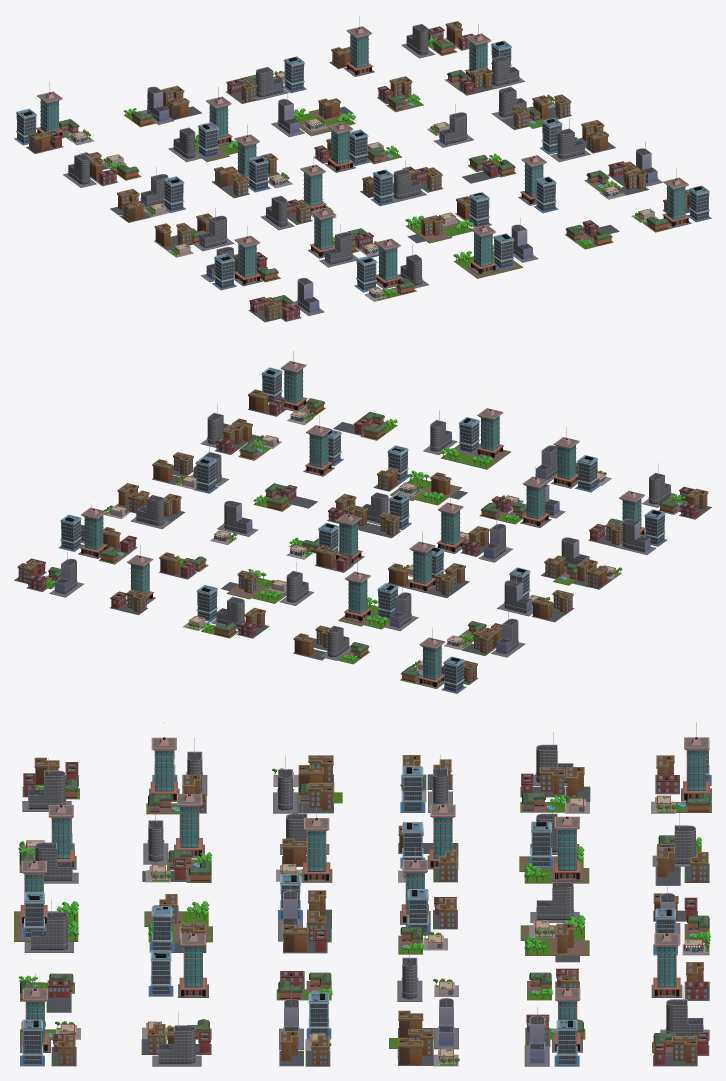
The model's file is buildings.glb.
The picture shows the model from 3 angles, top to bottom: view 1: azimuth 30°, elevation 25°; view 2: azimuth 150°, elevation 25°; view 3: azimuth 270°, elevation 25°; orthographic projection. The views are drawn at different scales.
Visible parts, largest first — view 1: building; view 2: building; view 3: building.
Part boxes in pixels (x1,y1,x2,y2): building: (14,17,711,322); building: (14,351,711,693); building: (14,722,711,1066).
Size of the model in its own units: 218 by 26.08 by 220.
Materials: 1 (1 with a texture image).
